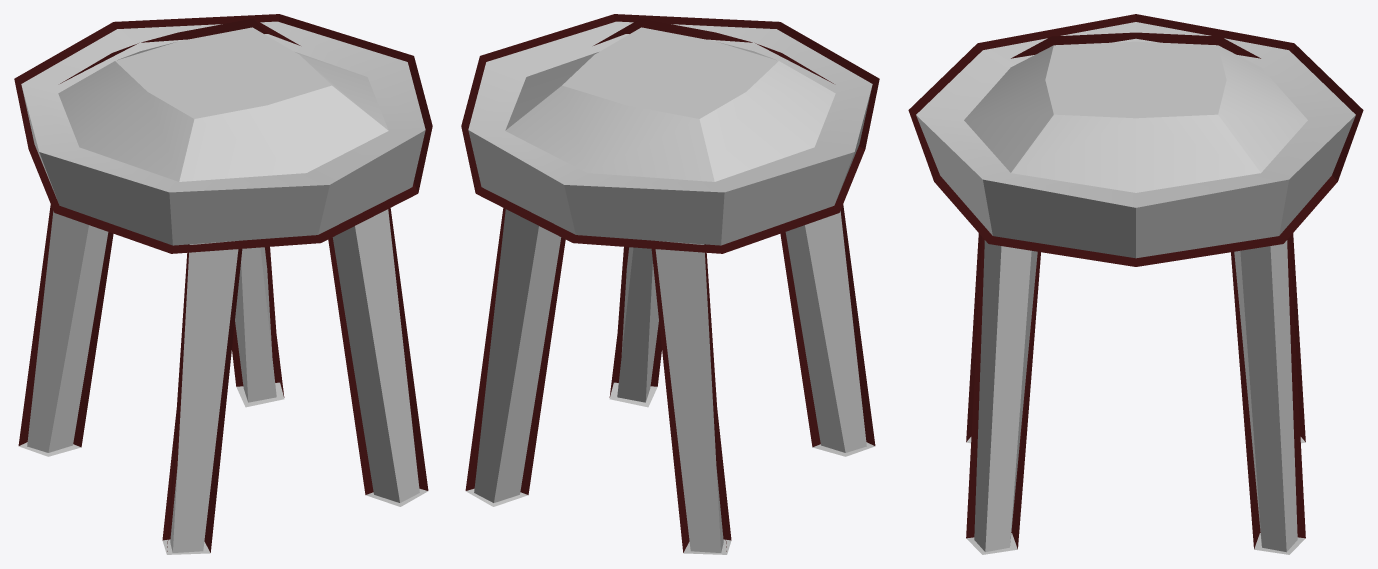
File: Chair.gltf
The picture shows the model from 3 angles, left to right: view 1: azimuth 30°, elevation 25°; view 2: azimuth 150°, elevation 25°; view 3: azimuth 270°, elevation 25°; orthographic projection. The views are drawn at different scales.
Visible parts, largest first — view 1: Circle.008_TT_checker_2_0, Circle.008_Line art _Red_0; view 2: Circle.008_TT_checker_2_0, Circle.008_Line art _Red_0; view 3: Circle.008_TT_checker_2_0, Circle.008_Line art _Red_0.
Boxes of the visible parts, <box> form: Circle.008_TT_checker_2_0: <box>19,21,428,554</box>; Circle.008_Line art _Red_0: <box>14,14,432,552</box>; Circle.008_TT_checker_2_0: <box>465,21,874,554</box>; Circle.008_Line art _Red_0: <box>461,14,879,552</box>; Circle.008_TT_checker_2_0: <box>916,22,1355,554</box>; Circle.008_Line art _Red_0: <box>908,14,1363,548</box>.
Size of the model in its own units: 0.6044 by 0.6154 by 0.6044.
